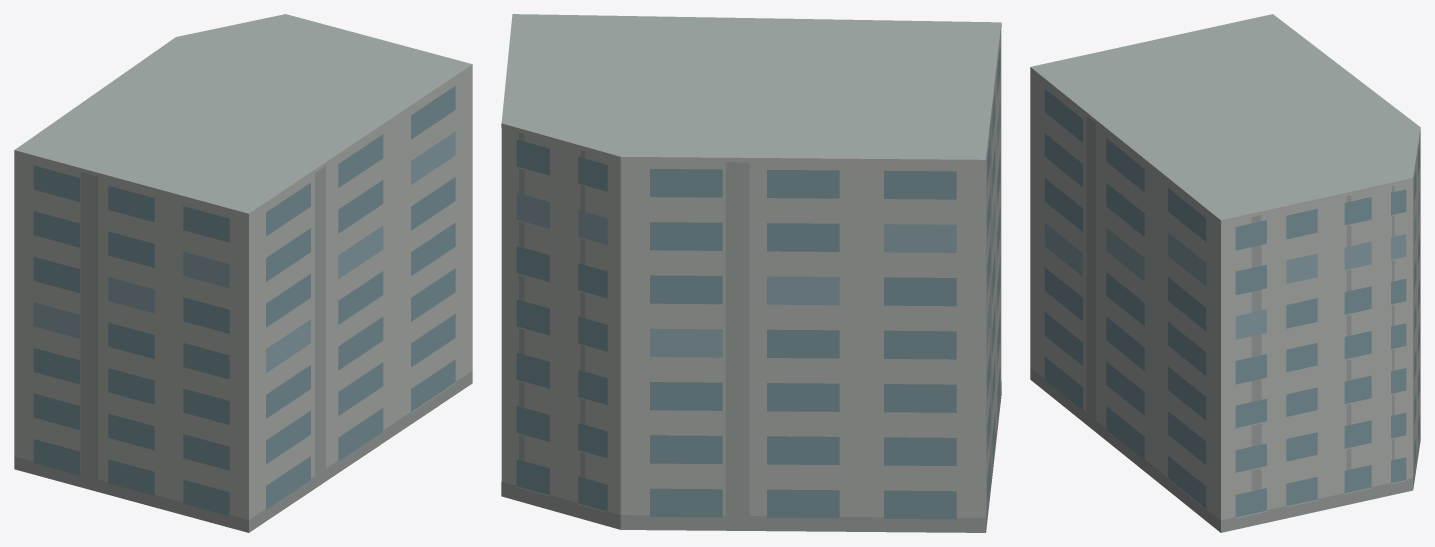
The model's file is survey-upis-32919636.glb.
3 views of the same model, side by side, from view 1: azimuth 30°, elevation 25°; view 2: azimuth 150°, elevation 25°; view 3: azimuth 270°, elevation 25° (orthographic). The views are drawn at different scales.
Parts seen in each view (by area): view 1: survey-upis-32919636.tmp; view 2: survey-upis-32919636.tmp; view 3: survey-upis-32919636.tmp.
Part boxes in pixels (x1,y1,x2,y2): survey-upis-32919636.tmp: (14,14,472,532); survey-upis-32919636.tmp: (501,14,1001,532); survey-upis-32919636.tmp: (1030,14,1420,532).
Bounding box in the file's own units: 29.1 × 20.55 × 23.27.
